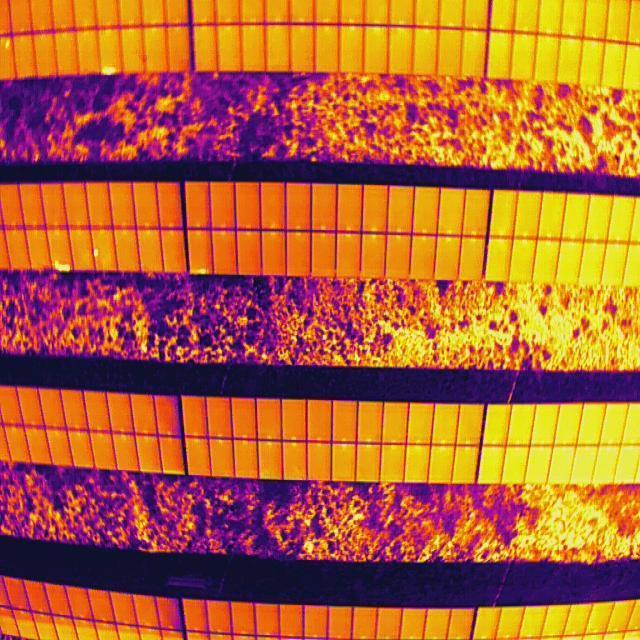hotspot: (190, 264, 212, 275), (54, 258, 72, 271), (101, 66, 119, 76), (90, 245, 101, 258), (4, 38, 12, 50)
